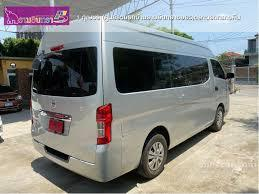van: (29, 17, 235, 174)
